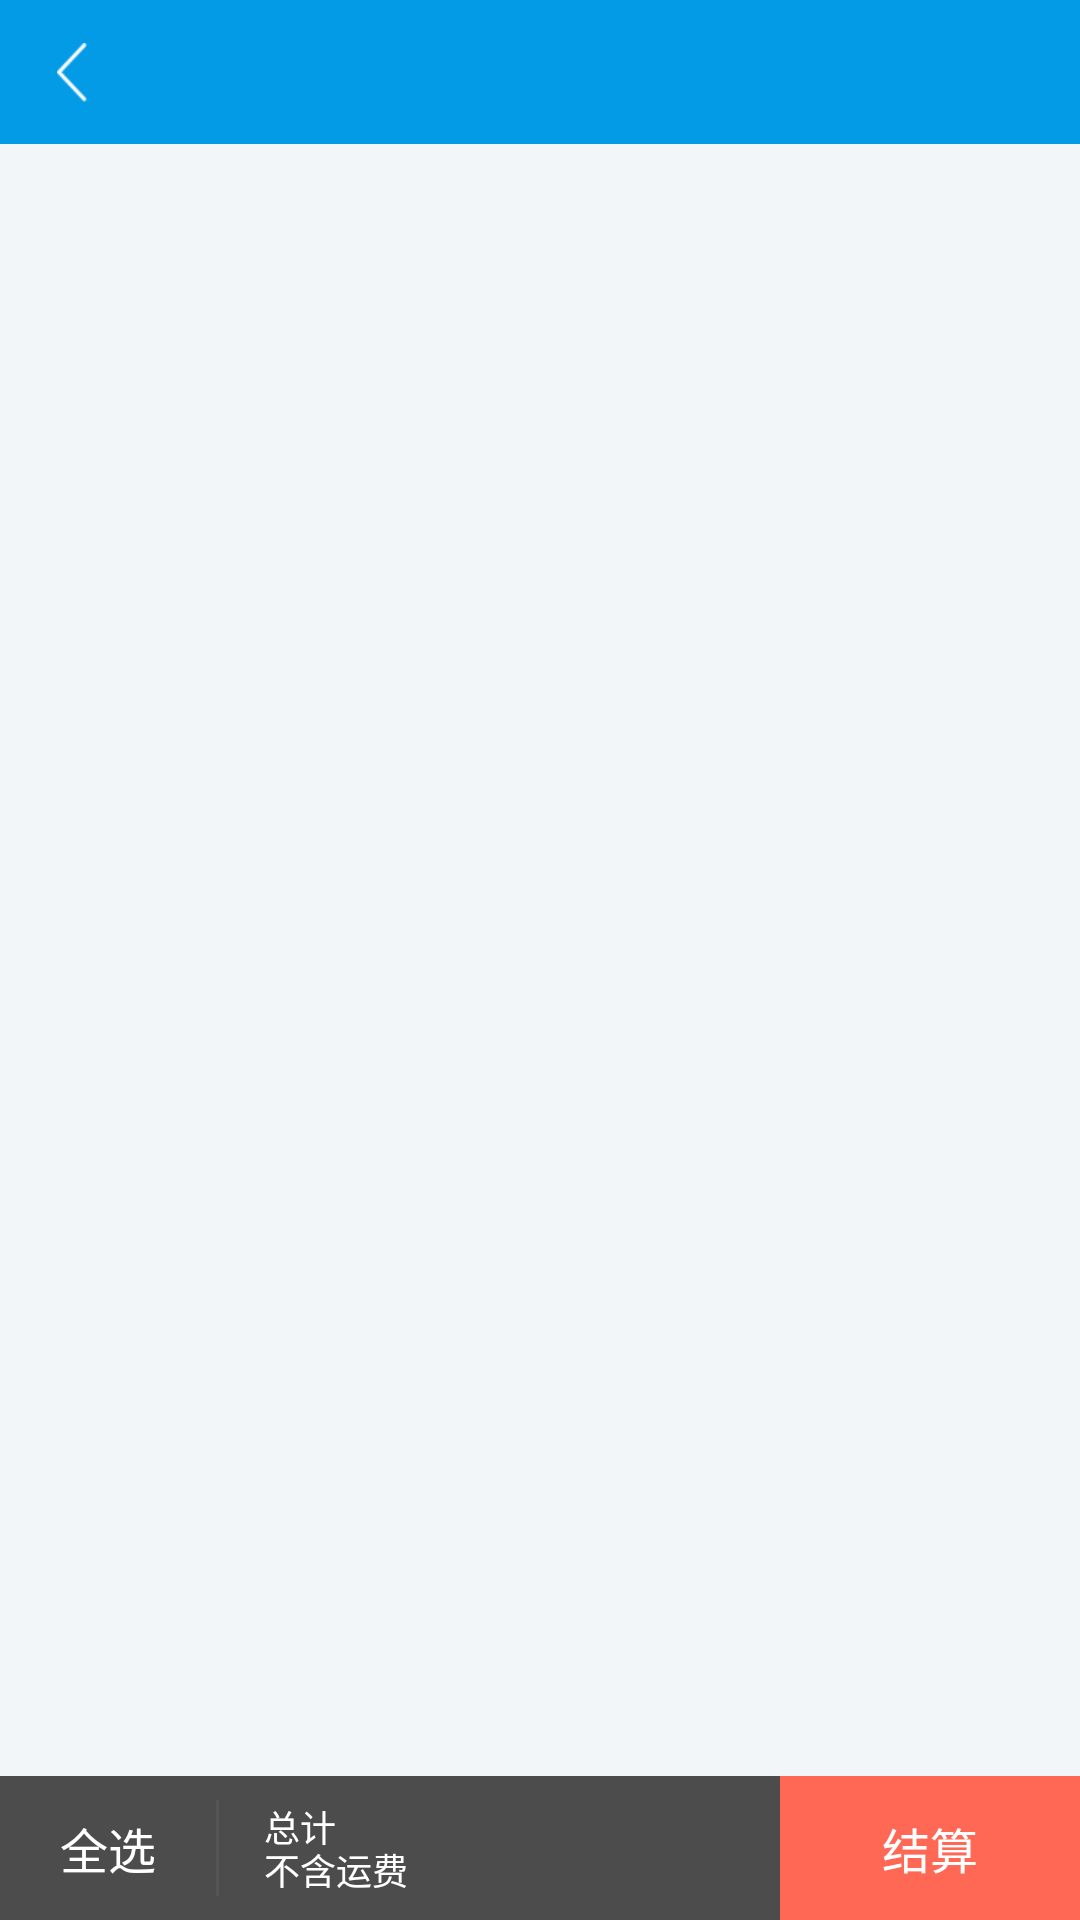

Icon bounding boxes for this 1080 × 1920 phone screenshot, format bbox(x1, y1, x2, y2):
arrow left: bbox(57, 43, 87, 102)
